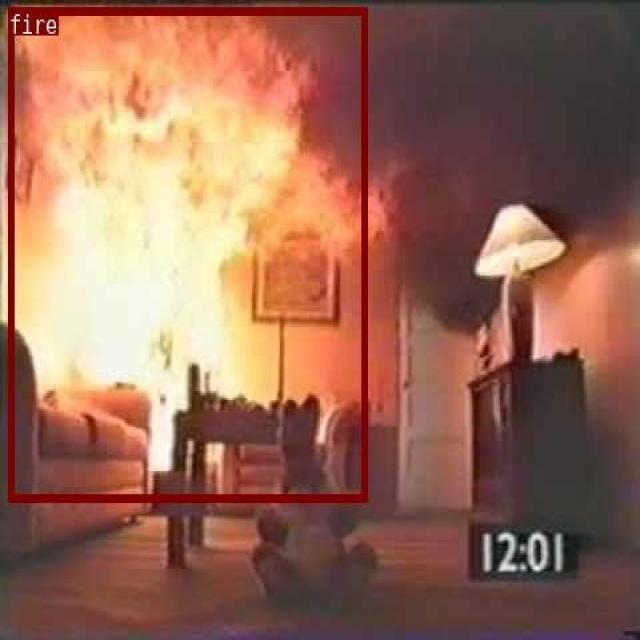fire: (8, 6, 366, 500)
